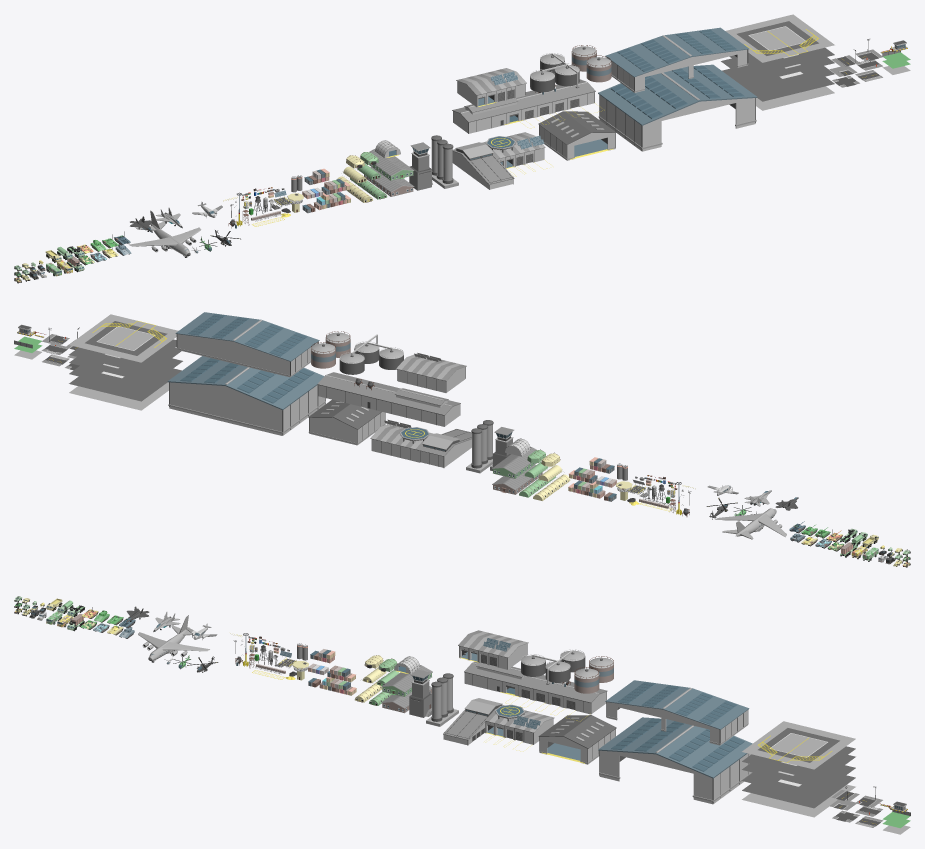
Rendered from military_base_construction.fbx.
The picture shows the model from 3 angles, top to bottom: view 1: azimuth 30°, elevation 25°; view 2: azimuth 150°, elevation 25°; view 3: azimuth 330°, elevation 25°; orthographic projection.
Parts seen in each view (by area): view 1: military_base_construction.054, military_base_construction.057, military_base_construction.047, military_base_construction.046, military_base_construction.065, military_base_construction.055, military_base_construction.053, military_base_construction.050, military_base_construction.072, military_base_construction.051, military_base_construction.056, military_base_construction.069 (+7 smaller); view 2: military_base_construction.054, military_base_construction.057, military_base_construction.047, military_base_construction.046, military_base_construction.065, military_base_construction.055, military_base_construction.053, military_base_construction.050, military_base_construction.072, military_base_construction.069, military_base_construction.071, military_base_construction.051 (+7 smaller); view 3: military_base_construction.054, military_base_construction.057, military_base_construction.047, military_base_construction.046, military_base_construction.065, military_base_construction.055, military_base_construction.053, military_base_construction.050, military_base_construction.072, military_base_construction.071, military_base_construction.069, military_base_construction.051 (+6 smaller).
Boxes of the visible parts, left/top/right/bottom form: military_base_construction.054: left=598, top=64, right=757, bottom=151; military_base_construction.057: left=605, top=27, right=748, bottom=92; military_base_construction.047: left=452, top=79, right=604, bottom=133; military_base_construction.046: left=452, top=132, right=550, bottom=189; military_base_construction.065: left=725, top=14, right=834, bottom=62; military_base_construction.055: left=538, top=111, right=616, bottom=160; military_base_construction.053: left=456, top=68, right=526, bottom=107; military_base_construction.050: left=530, top=53, right=579, bottom=92; military_base_construction.072: left=721, top=58, right=834, bottom=91; military_base_construction.051: left=571, top=45, right=611, bottom=82; military_base_construction.056: left=431, top=135, right=458, bottom=188; military_base_construction.069: left=722, top=68, right=834, bottom=101; military_base_construction.054: left=167, top=356, right=325, bottom=435; military_base_construction.057: left=175, top=312, right=319, bottom=377; military_base_construction.047: left=317, top=372, right=460, bottom=426; military_base_construction.046: left=370, top=419, right=471, bottom=467; military_base_construction.065: left=69, top=314, right=178, bottom=362; military_base_construction.055: left=308, top=399, right=385, bottom=445; military_base_construction.053: left=396, top=352, right=466, bottom=392; military_base_construction.050: left=339, top=334, right=403, bottom=374; military_base_construction.072: left=69, top=358, right=182, bottom=391; military_base_construction.069: left=69, top=368, right=181, bottom=401; military_base_construction.071: left=69, top=339, right=176, bottom=372; military_base_construction.051: left=311, top=331, right=350, bottom=368; military_base_construction.054: left=598, top=717, right=752, bottom=804; military_base_construction.057: left=605, top=680, right=749, bottom=745; military_base_construction.047: left=464, top=661, right=607, bottom=721; military_base_construction.046: left=443, top=698, right=554, bottom=751; military_base_construction.065: left=742, top=721, right=855, bottom=769; military_base_construction.055: left=538, top=715, right=616, bottom=764; military_base_construction.053: left=458, top=630, right=528, bottom=669; military_base_construction.050: left=521, top=649, right=585, bottom=684; military_base_construction.072: left=742, top=765, right=855, bottom=798; military_base_construction.071: left=742, top=746, right=855, bottom=779; military_base_construction.069: left=742, top=775, right=855, bottom=808; military_base_construction.051: left=574, top=656, right=613, bottom=693.
Size of the model in its own units: 48941 by 4917 by 5218.
